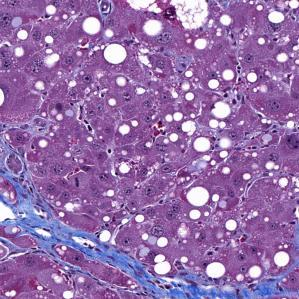fibrosis: (0, 144, 61, 256), (52, 240, 152, 282), (146, 272, 282, 299)
